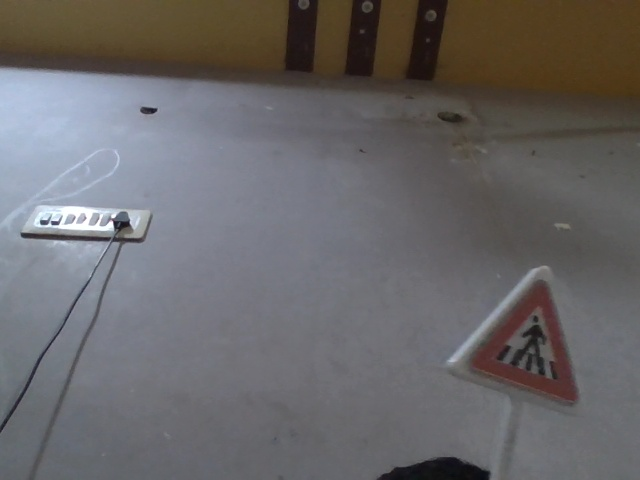crossing: (445, 271, 583, 411)
